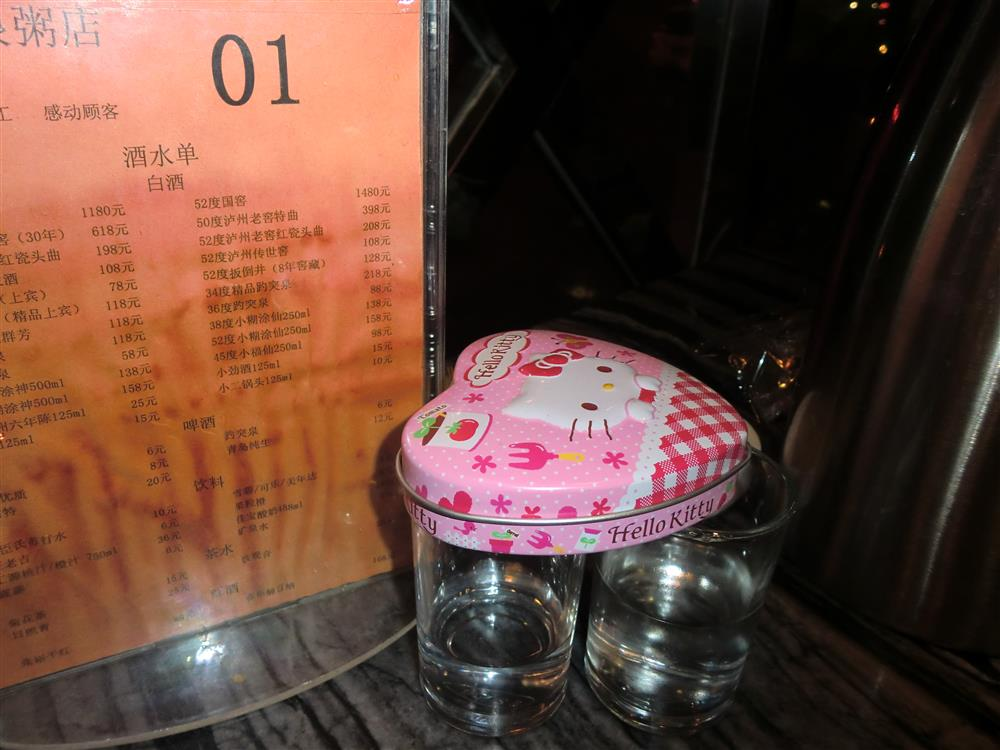hello_kitty: (394, 310, 775, 559)
